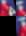potion: (0, 0, 16, 16), (16, 16, 26, 36), (16, 0, 26, 16)
